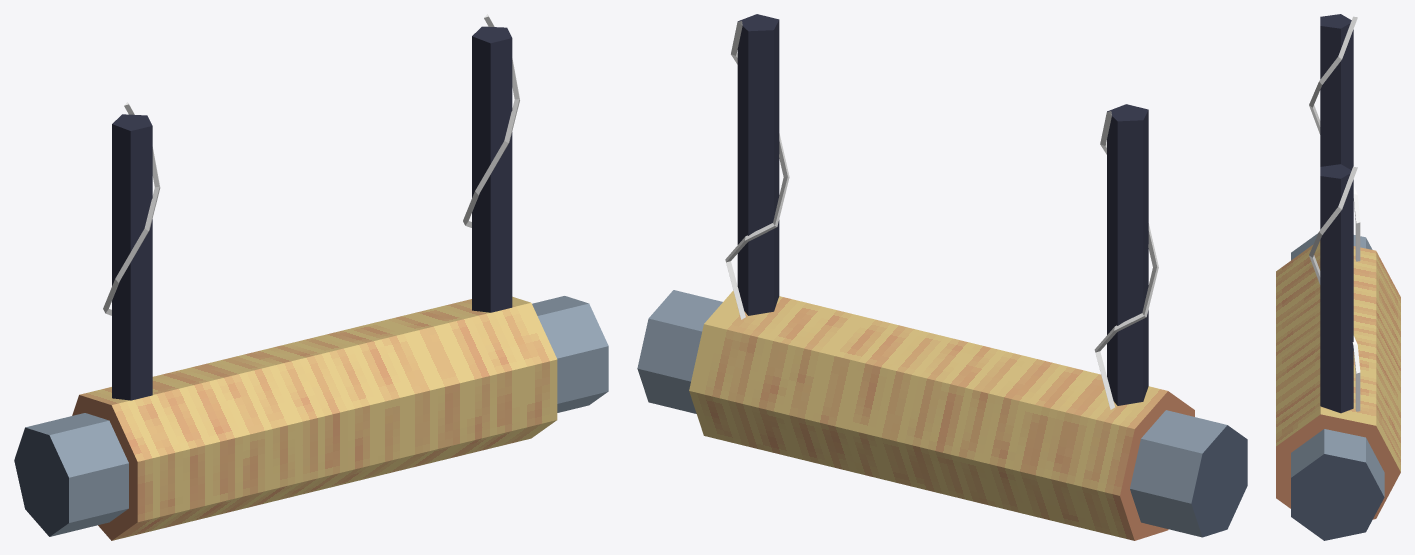
The model's file is electromagnet.gltf.
The picture shows the model from 3 angles, left to right: view 1: azimuth 30°, elevation 25°; view 2: azimuth 150°, elevation 25°; view 3: azimuth 270°, elevation 25°; orthographic projection. The views are drawn at different scales.
Parts seen in each view (by area): view 1: Coiled, Holder2, Holder1, segment2, segment; view 2: Coiled, Holder1, Holder2, segment2, segment; view 3: Coiled, Holder1, Holder2, segment, segment2.
Boxes of the visible parts, bbox=[...] form: Coiled: bbox=[14, 296, 608, 540]; Holder2: bbox=[112, 114, 152, 400]; Holder1: bbox=[472, 26, 512, 312]; segment2: bbox=[103, 102, 160, 315]; segment: bbox=[463, 14, 519, 227]; Coiled: bbox=[637, 290, 1247, 540]; Holder1: bbox=[737, 14, 779, 315]; Holder2: bbox=[1107, 104, 1148, 405]; segment2: bbox=[1094, 111, 1158, 409]; segment: bbox=[725, 20, 789, 319]; Coiled: bbox=[1276, 233, 1400, 540]; Holder1: bbox=[1320, 164, 1353, 413]; Holder2: bbox=[1320, 14, 1353, 170]; segment: bbox=[1309, 166, 1360, 411]; segment2: bbox=[1309, 16, 1360, 261].
Size of the model in its own units: 1.12 by 0.8244 by 0.2637.
2 materials, 1 textured.
